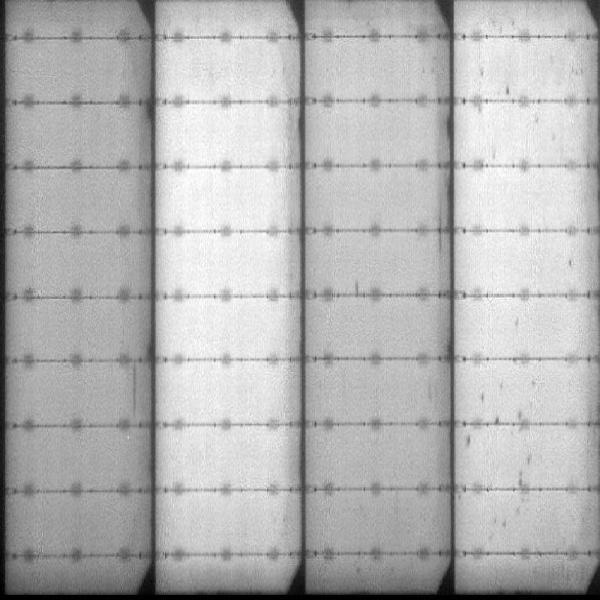scratch: (130, 364, 140, 420)
